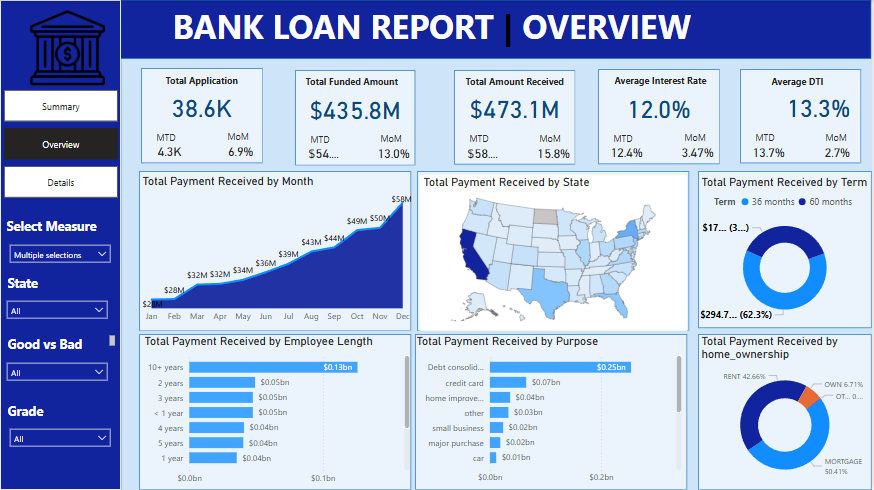

The dashboard page shown, as its layout file describes it:
{"tool":"powerbi","page":{"name":"Overview","canvas":[1280,720],"ordinal":1},"visuals":[{"type":"shape","box":[0,0,1280,86],"z":0},{"type":"shape","box":[206.8,100.3,179.5,139.9],"z":0,"group":"g2"},{"type":"shape","box":[878.3,101.8,179.5,139.9],"z":0,"group":"g1"},{"type":"shape","box":[1088,101.8,178.1,138.5],"z":0,"group":"g4"},{"type":"shape","box":[433.4,102.5,176.8,140.3],"z":0,"group":"g3"},{"type":"shape","box":[666.8,102.6,178.5,138.8],"z":0,"group":"g5"},{"type":"shape","box":[0,0,178.1,720],"z":1000},{"type":"card","fields":{"Values":["measuretable.MTD total application"]},"box":[218.9,209.5,60,23.8],"z":1000,"group":"g2"},{"type":"card","fields":{"Values":["measuretable.MTD average dti"]},"box":[1100,209.9,60,23.6],"z":1000,"group":"g4"},{"type":"card","fields":{"Values":["measuretable.MTD total payment"]},"box":[678.8,210.9,60.1,23.6],"z":1000,"group":"g5"},{"type":"card","fields":{"Values":["measuretable.MTD intrest rate"]},"box":[890.4,211,60,23.8],"z":1000,"group":"g1"},{"type":"card","fields":{"Values":["measuretable.MTD total loan"]},"box":[445.3,212,60,23.9],"z":1000,"group":"g3"},{"type":"textbox","box":[248.4,0,783.2,79.3],"z":2000},{"type":"card","fields":{"Values":["measuretable.MoM total application"]},"box":[323.3,209.5,60,23.8],"z":2000,"group":"g2"},{"type":"card","fields":{"Values":["measuretable.MoM average DTI"]},"box":[1203.7,209.9,53.4,23.6],"z":2000,"group":"g4"},{"type":"card","fields":{"Values":["measuretable.MoM total payment"]},"box":[782.7,210.9,60.1,23.6],"z":2000,"group":"g5"},{"type":"card","fields":{"Values":["measuretable.MoM avrage intrest rate"]},"box":[994.8,211,60,23.8],"z":2000,"group":"g1"},{"type":"card","fields":{"Values":["measuretable.MoM total loan"]},"box":[548.2,212,60,23.9],"z":2000,"group":"g3"},{"type":"group","id":"g1","title":"interest","box":[878.3,101.8,180.7,139.9],"z":3000},{"type":"textbox","box":[328.6,187.3,50,28.3],"z":3000,"group":"g2"},{"type":"textbox","box":[1208.9,187.9,50,28],"z":3000,"group":"g4"},{"type":"textbox","box":[1000.1,188.8,50,28.3],"z":3000,"group":"g1"},{"type":"textbox","box":[788,188.9,50,28.1],"z":3000,"group":"g5"},{"type":"textbox","box":[553.4,189.7,50,28.4],"z":3000,"group":"g3"},{"type":"group","id":"g2","title":"Application","box":[206.8,100.3,179.5,139.9],"z":4000},{"type":"textbox","box":[224,188,50,28.3],"z":4000,"group":"g2"},{"type":"textbox","box":[1105.1,188.6,50,28],"z":4000,"group":"g4"},{"type":"textbox","box":[895.5,189.5,50,28.3],"z":4000,"group":"g1"},{"type":"textbox","box":[683.9,189.6,50,28.1],"z":4000,"group":"g5"},{"type":"textbox","box":[450.4,190.4,50,28.4],"z":4000,"group":"g3"},{"type":"group","id":"g3","title":"Funded amount","box":[433.4,102.5,176.8,140.3],"z":5000},{"type":"card","fields":{"Values":["measuretable.total application"]},"box":[218.9,107.3,155.4,116.2],"z":5000,"group":"g2"},{"type":"card","fields":{"Values":["measuretable.average intrest rate"]},"box":[890.4,108.8,155.4,116.2],"z":5000,"group":"g1"},{"type":"card","fields":{"Values":["measuretable.average dti"]},"box":[1125.6,109.4,154.2,115],"z":5000,"group":"g4"},{"type":"card","fields":{"Values":["measuretable.total loan"]},"box":[445.3,109.5,153.1,116.5],"z":5000,"group":"g3"},{"type":"card","fields":{"Values":["measuretable.total payment"]},"box":[678.8,109.5,154.5,115.2],"z":5000,"group":"g5"},{"type":"group","id":"g4","title":"DTI","box":[1088,101.8,191.8,138.5],"z":6000},{"type":"textbox","box":[897.5,104.1,161.5,31.7],"z":6000,"group":"g1"},{"type":"textbox","box":[237.3,104.9,125.3,33.2],"z":6000,"group":"g2"},{"type":"textbox","box":[443.3,105.3,163,33.2],"z":6000,"group":"g3"},{"type":"textbox","box":[679.2,105.6,163,30.2],"z":6000,"group":"g5"},{"type":"textbox","box":[1128.8,105.7,140.4,33.2],"z":6000,"group":"g4"},{"type":"group","id":"g5","title":"amount received","box":[666.8,102.6,178.5,138.8],"z":7000},{"type":"slicer","fields":{"Values":["bank_data financial_loan.address_state"]},"box":[0,432,167.5,55.8],"z":8000},{"type":"slicer","fields":{"Values":["bank_data financial_loan.good vs bad loan"]},"box":[0,523.1,167.5,57.3],"z":9000},{"type":"slicer","fields":{"Values":["bank_data financial_loan.grade"]},"box":[4.4,620.1,167.5,57.3],"z":10000},{"type":"textbox","box":[5.9,398.2,130.8,35.3],"z":11000},{"type":"textbox","box":[5.9,487.8,167.5,35.3],"z":12000},{"type":"textbox","box":[5.9,586.3,130.8,38.2],"z":13000},{"type":"shape","box":[203.8,250.6,400,235.5],"z":14000},{"type":"slicer","fields":{"Values":["Parameter.Parameter"]},"box":[4.4,349.7,167.5,66.1],"z":15000},{"type":"areaChart","fields":{"Y":["measuretable.total payment"],"Category":["calendertable.monthnumber"]},"box":[203.8,255.1,406,226.4],"z":16000},{"type":"textbox","box":[4.4,314.4,158.7,35.3],"z":17000},{"type":"shape","box":[612.8,250.6,400,235.5],"z":18000},{"type":"shapeMap","fields":{"Category":["bank_data financial_loan.address_state"],"Value":["measuretable.total payment"]},"box":[617.4,256.6,392.5,229.4],"z":19000},{"type":"shape","box":[1024.9,250.6,255.1,230.9],"z":20000},{"type":"shape","box":[203.8,490.6,400,229.4],"z":21000},{"type":"donutChart","fields":{"Y":["measuretable.total payment"],"Category":["bank_data financial_loan.term"]},"box":[1024.9,256.6,255.1,224.9],"z":22000},{"type":"clusteredBarChart","fields":{"Y":["measuretable.total payment"],"Category":["bank_data financial_loan.emp_length"]},"box":[206.8,490.6,400,229.4],"z":23000},{"type":"shape","box":[609.8,490.6,400,229.4],"z":24000},{"type":"clusteredBarChart","fields":{"Y":["measuretable.total payment"],"Category":["bank_data financial_loan.purpose"]},"box":[606.9,490.8,399.7,229.2],"z":25000},{"type":"shape","box":[1024.9,490.6,255.1,229.4],"z":26000},{"type":"donutChart","fields":{"Y":["measuretable.total payment"],"Category":["bank_data financial_loan.home_ownership"]},"box":[1024.9,490.6,255.1,229.4],"z":27000},{"type":"pageNavigator","box":[5.9,132.2,167.5,158.7],"z":28000},{"type":"image","box":[10,10,177.8,120.5],"z":29000}]}

Visuals, with their boxes in screenshot pixels (x1, y1, x2, y2), scaled from the page's 1280x720 canvas onto the 874x490 screenshot:
shape: 0 0 873 59
shape: 141 68 264 163
shape: 600 69 722 164
shape: 743 69 865 164
shape: 296 70 417 165
shape: 455 70 577 164
shape: 0 0 122 489
card - measuretable.MTD total application: 149 143 190 159
card - measuretable.MTD average dti: 751 143 792 159
card - measuretable.MTD total payment: 463 144 505 160
card - measuretable.MTD intrest rate: 608 144 649 160
card - measuretable.MTD total loan: 304 144 345 161
textbox: 170 0 704 54
card - measuretable.MoM total application: 221 143 262 159
card - measuretable.MoM average DTI: 822 143 858 159
card - measuretable.MoM total payment: 534 144 575 160
card - measuretable.MoM avrage intrest rate: 679 144 720 160
card - measuretable.MoM total loan: 374 144 415 161
"interest" group: 600 69 723 164
textbox: 224 127 259 147
textbox: 825 128 860 147
textbox: 683 128 717 148
textbox: 538 129 572 148
textbox: 378 129 412 148
"Application" group: 141 68 264 163
textbox: 153 128 187 147
textbox: 755 128 789 147
textbox: 611 129 646 148
textbox: 467 129 501 148
textbox: 308 130 342 149
"Funded amount" group: 296 70 417 165
card - measuretable.total application: 149 73 256 152
card - measuretable.average intrest rate: 608 74 714 153
card - measuretable.average dti: 769 74 873 153
card - measuretable.total loan: 304 75 409 154
card - measuretable.total payment: 463 75 569 153
"DTI" group: 743 69 873 164
textbox: 613 71 723 92
textbox: 162 71 248 94
textbox: 303 72 414 94
textbox: 464 72 575 92
textbox: 771 72 867 95
"amount received" group: 455 70 577 164
slicer - bank_data financial_loan.address_state: 0 294 114 332
slicer - bank_data financial_loan.good vs bad loan: 0 356 114 395
slicer - bank_data financial_loan.grade: 3 422 117 461
textbox: 4 271 93 295
textbox: 4 332 118 356
textbox: 4 399 93 425
shape: 139 171 412 331
slicer - Parameter.Parameter: 3 238 117 283
areaChart - measuretable.total payment x calendertable.monthnumber: 139 174 416 328
textbox: 3 214 111 238
shape: 418 171 692 331
shapeMap - bank_data financial_loan.address_state x measuretable.total payment: 422 175 690 331
shape: 700 171 873 328
shape: 139 334 412 489
donutChart - measuretable.total payment x bank_data financial_loan.term: 700 175 873 328
clusteredBarChart - measuretable.total payment x bank_data financial_loan.emp_length: 141 334 414 489
shape: 416 334 690 489
clusteredBarChart - measuretable.total payment x bank_data financial_loan.purpose: 414 334 687 489
shape: 700 334 873 489
donutChart - measuretable.total payment x bank_data financial_loan.home_ownership: 700 334 873 489
pageNavigator: 4 90 118 198
image: 7 7 128 89
